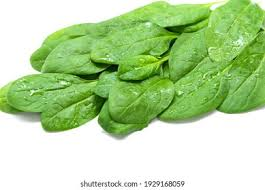spinach: (9, 7, 262, 128)
